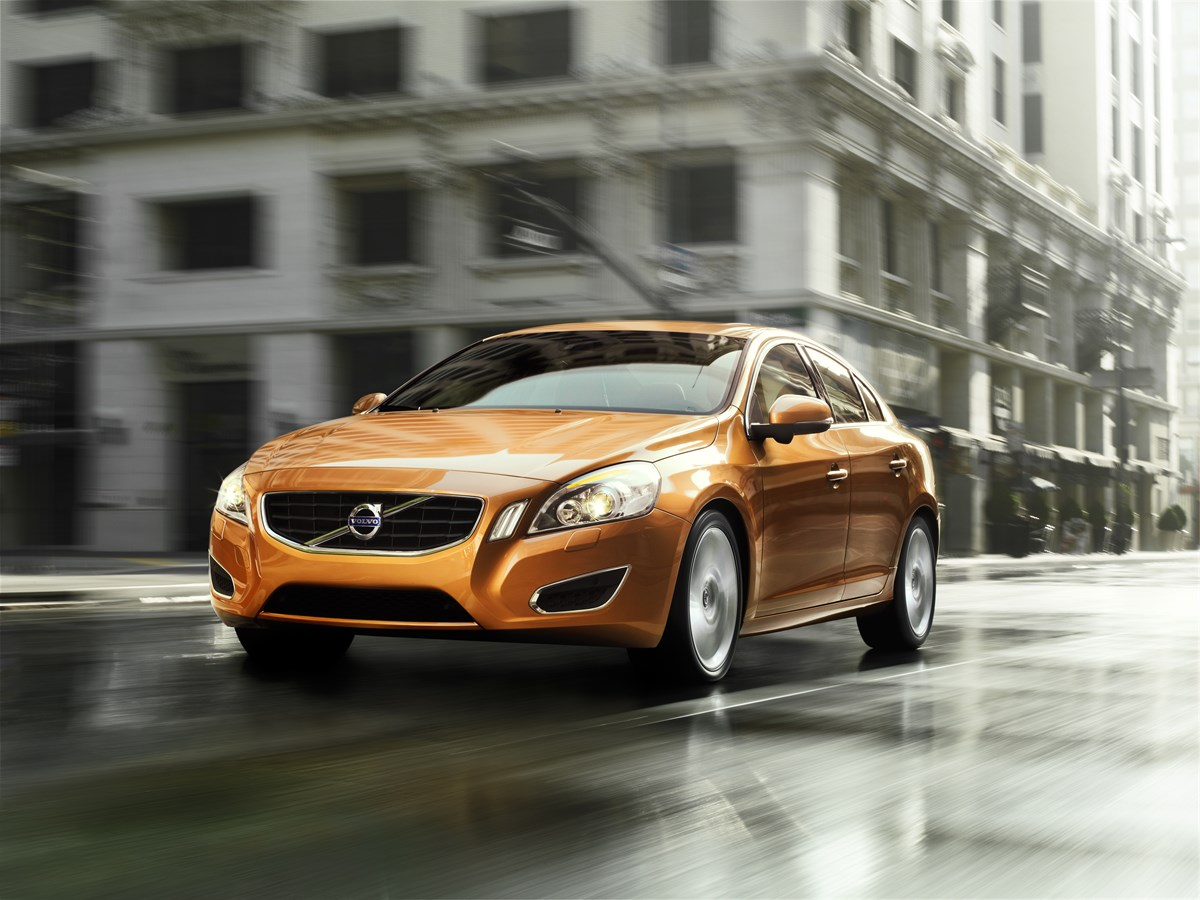other: (208, 294, 941, 686)
